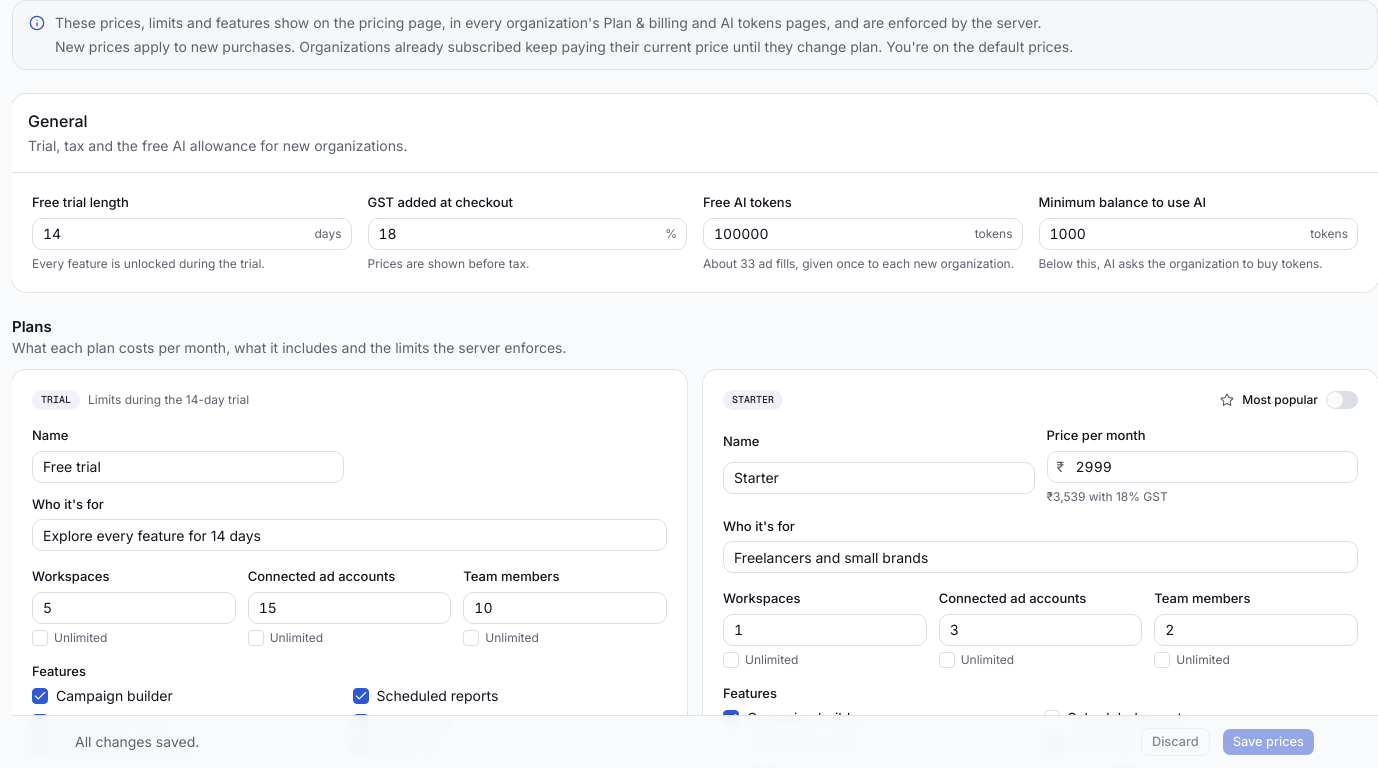
PricingEditor › decimal steps keep fractions; whole-number fields round
Replace the text in the field labelled "GST added at checkout" with "12.5" at (527, 234), box [368,218,687,250]
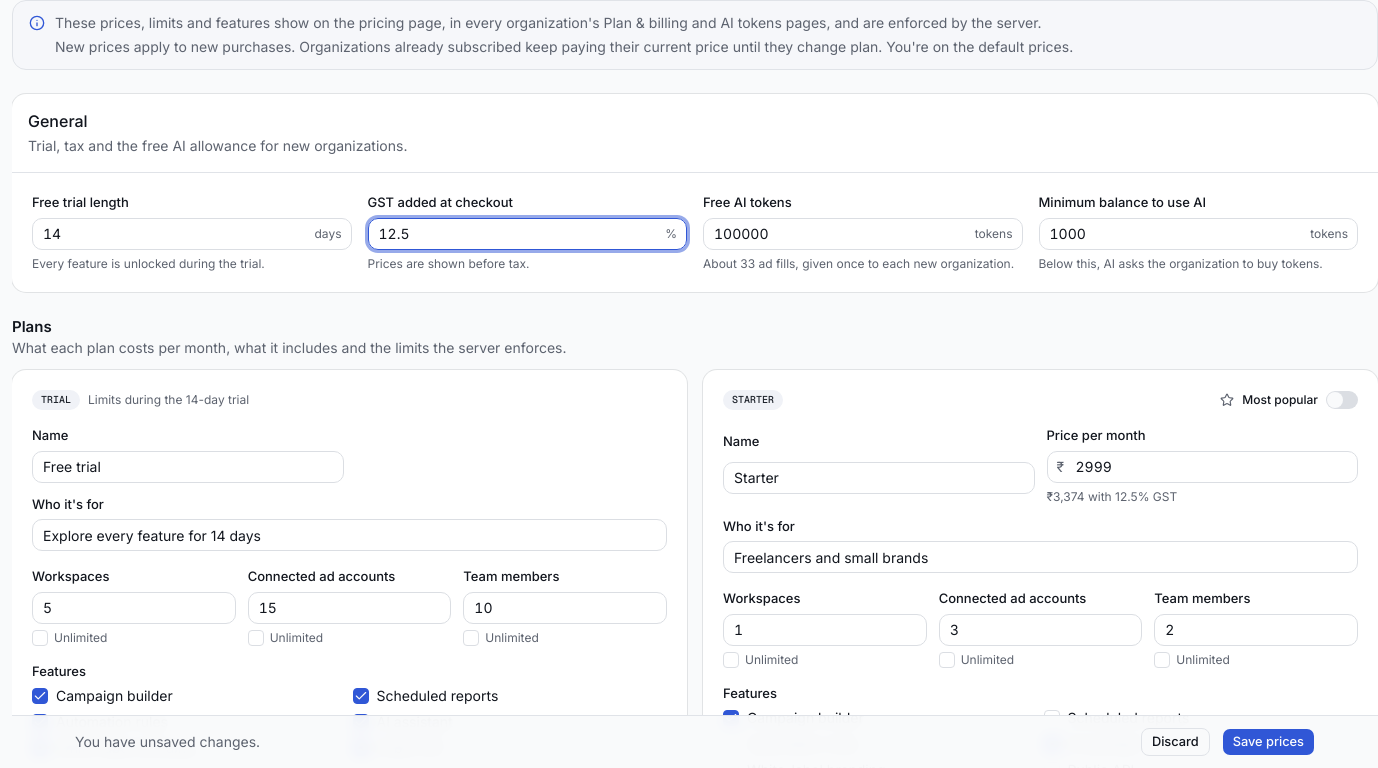
Now the text "₹3,374 with 12.5% GST" is shown, box [1046,489,1177,504]
Replace the text in the field with id "STARTER-price" with "1000.6" at (1202, 467), box [1046,451,1358,483]
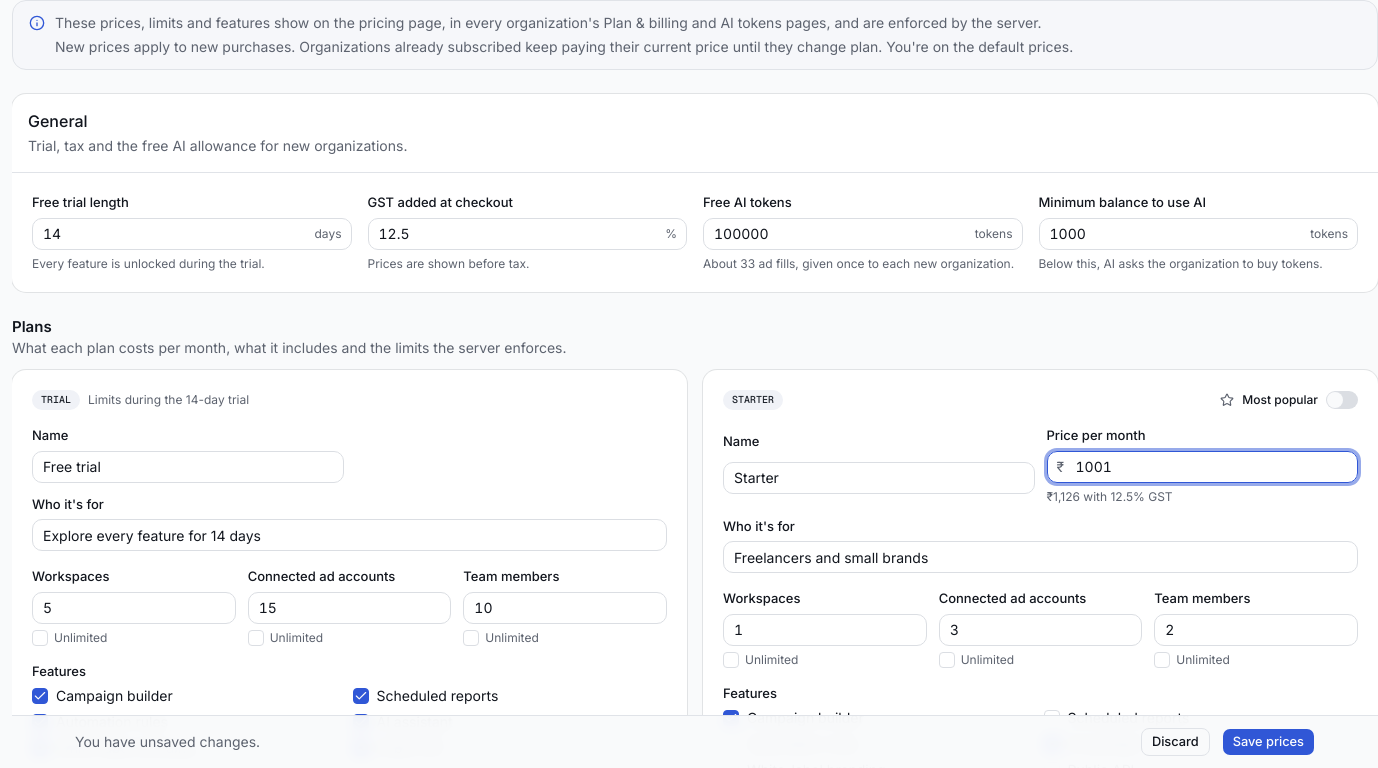
Now the text "₹1,126 with 12.5% GST" is shown, box [1046,489,1172,504]
